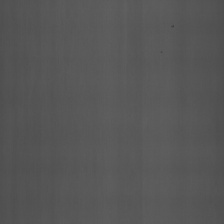inclusion: (158, 41, 165, 58), (170, 14, 176, 30)
